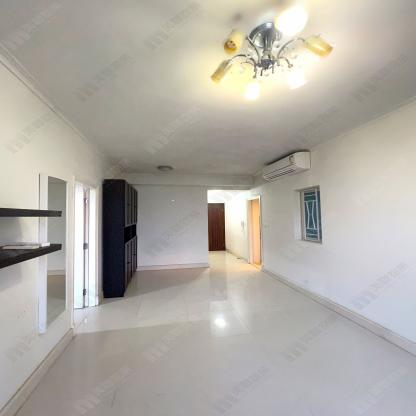AC: (262, 151, 311, 180)
Cupboard: (103, 178, 138, 298)
